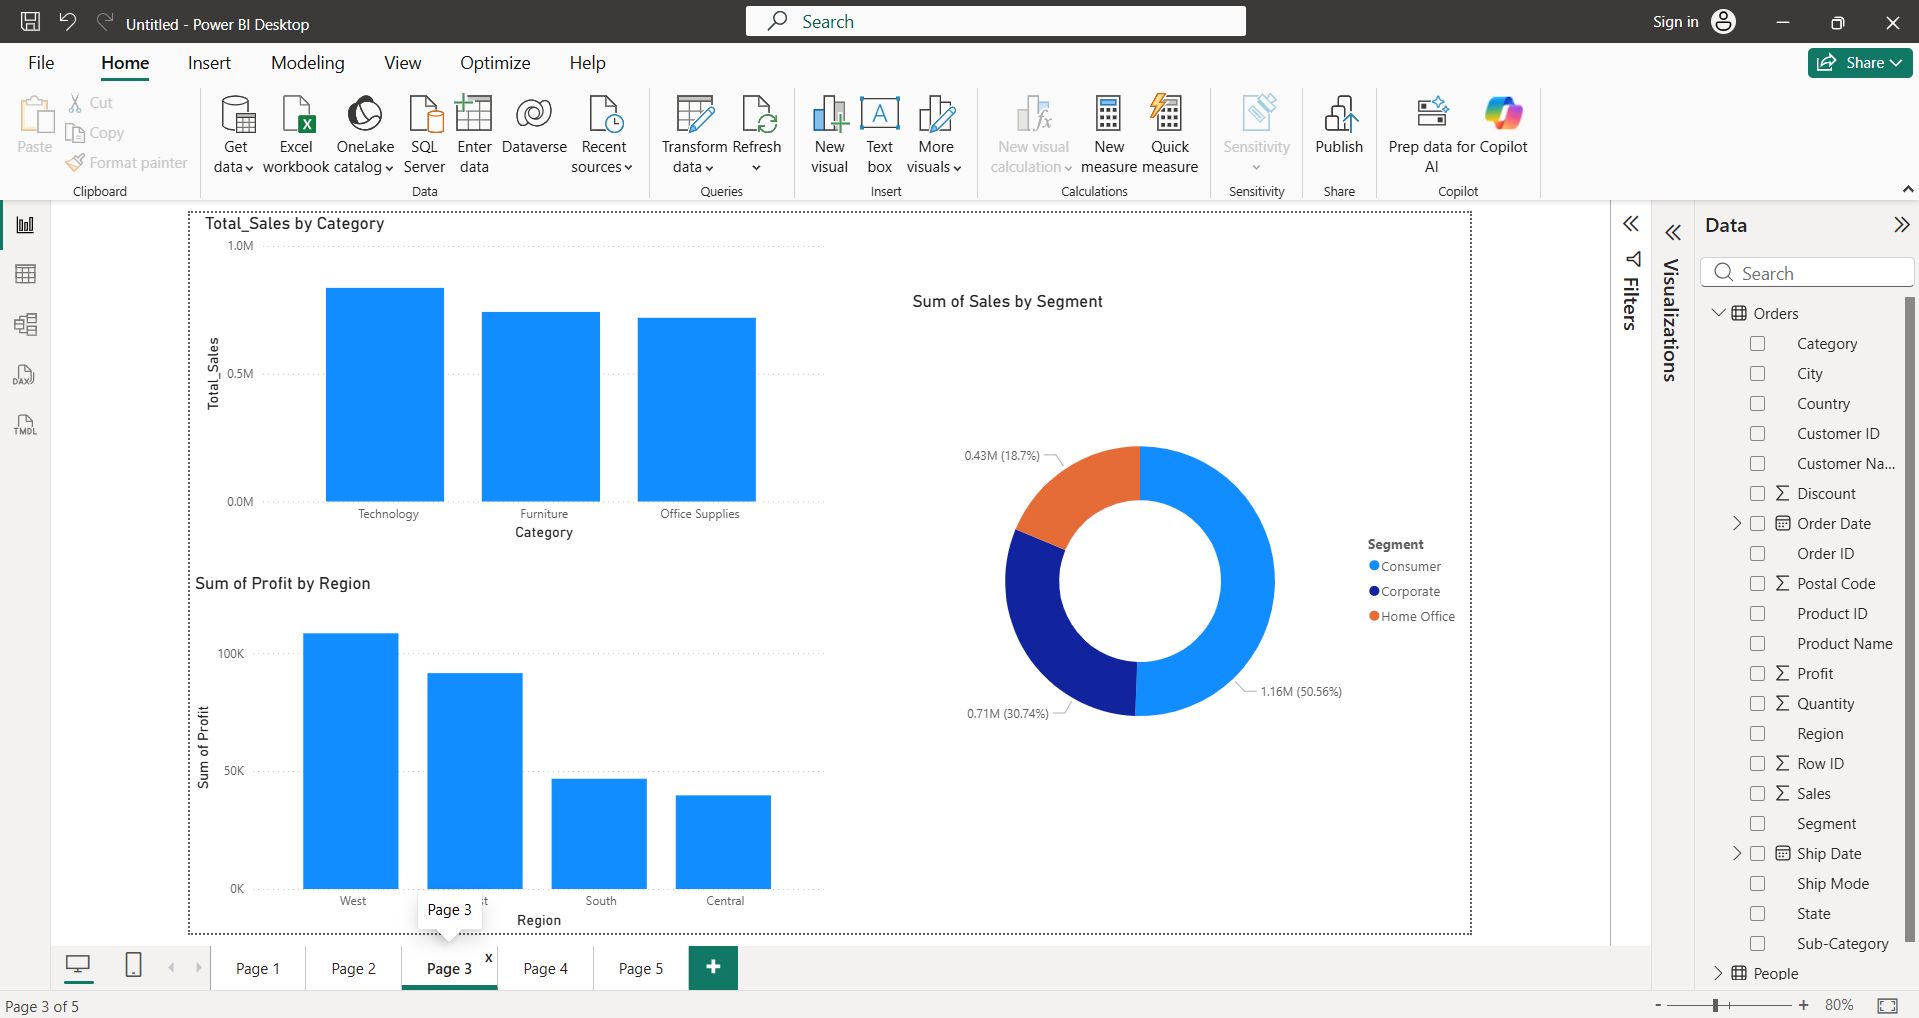

What the dashboard file says about the page in this screenshot:
{"tool":"powerbi","page":{"name":"Page 3","canvas":[1280,720],"ordinal":2},"visuals":[{"type":"columnChart","fields":{"Category":["Orders.Category"],"Y":["Sum(Orders.Sales)"]},"box":[10,0,630,332.5],"z":0},{"type":"columnChart","fields":{"Category":["Orders.Region"],"Y":["Sum(Orders.Profit)"]},"box":[0,360,640,360],"z":1000},{"type":"donutChart","fields":{"Category":["Orders.Segment"],"Y":["Sum(Orders.Sales)"]},"box":[717.5,77.5,562.5,562.5],"z":2000}]}

Visuals, with their boxes on the page's 1280x720 design canvas (x1, y1, x2, y2). These are canvas units, not pixel positions in the 1919x1018 screenshot, which may show the page scaled, cropped or inside an application window:
columnChart - Orders.Category x Sum(Orders.Sales): {"left": 10, "top": 0, "right": 640, "bottom": 332}
columnChart - Orders.Region x Sum(Orders.Profit): {"left": 0, "top": 360, "right": 640, "bottom": 720}
donutChart - Orders.Segment x Sum(Orders.Sales): {"left": 718, "top": 78, "right": 1280, "bottom": 640}
